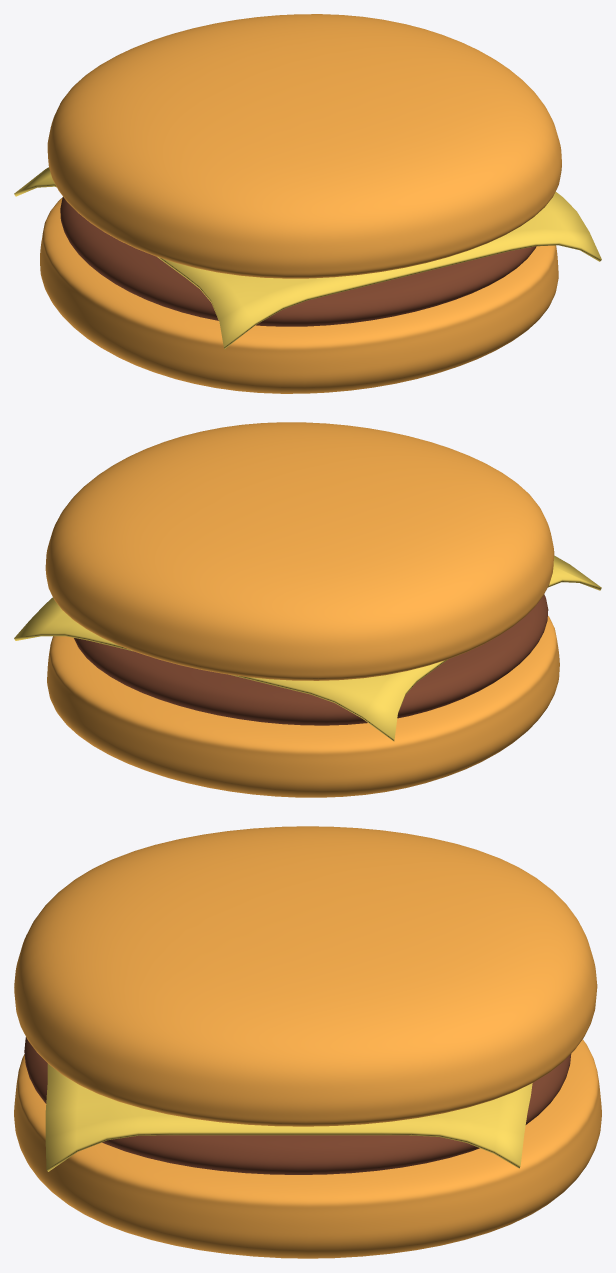
File: hamburger.glb
3 views of the same model, one above another, from view 1: azimuth 30°, elevation 25°; view 2: azimuth 150°, elevation 25°; view 3: azimuth 270°, elevation 25° (orthographic). The views are drawn at different scales.
Visible parts, largest first — view 1: Cube.002, Cube, Cube.001, Plane; view 2: Cube.002, Cube, Cube.001, Plane; view 3: Cube.002, Cube, Plane, Cube.001.
Part boxes in pixels (x1,y1,x2,y2): Cube.002: (47,14,561,278); Cube: (40,197,558,393); Cube.001: (60,197,536,326); Plane: (14,167,601,348); Cube.002: (45,422,554,680); Cube: (47,616,559,797); Cube.001: (74,594,548,725); Plane: (14,555,601,741); Cube.002: (14,826,597,1126); Cube: (14,1039,601,1258); Plane: (45,1063,532,1171); Cube.001: (24,1037,571,1174).
Size of the model in its own units: 11.23 by 5.6 by 11.17.
